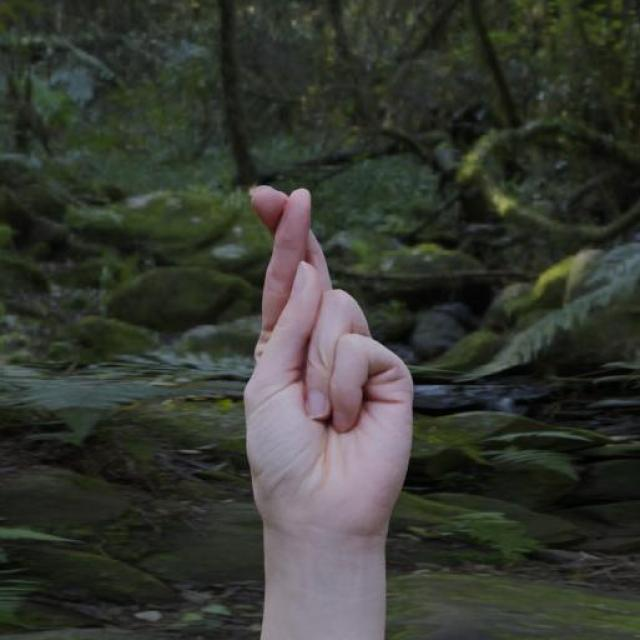R: (234, 180, 422, 550)
